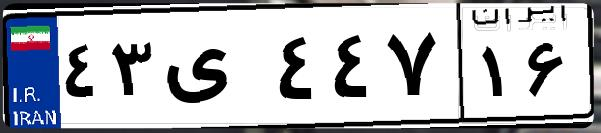1: (475, 38, 525, 113)
3: (110, 28, 158, 98)
4: (270, 28, 330, 110), (330, 28, 385, 110), (57, 26, 110, 100)
6: (525, 38, 570, 115)
7: (385, 28, 445, 110)
ی: (158, 20, 270, 120)
